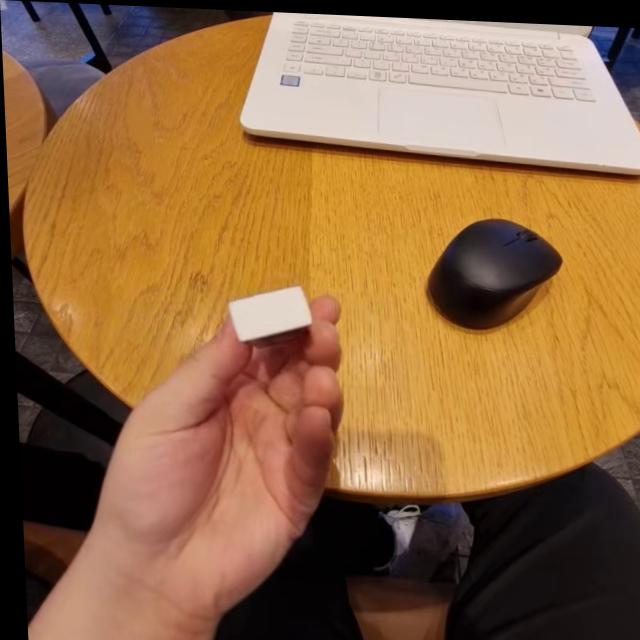grab_eraser: (63, 266, 351, 601)
mouse: (405, 201, 569, 335)
